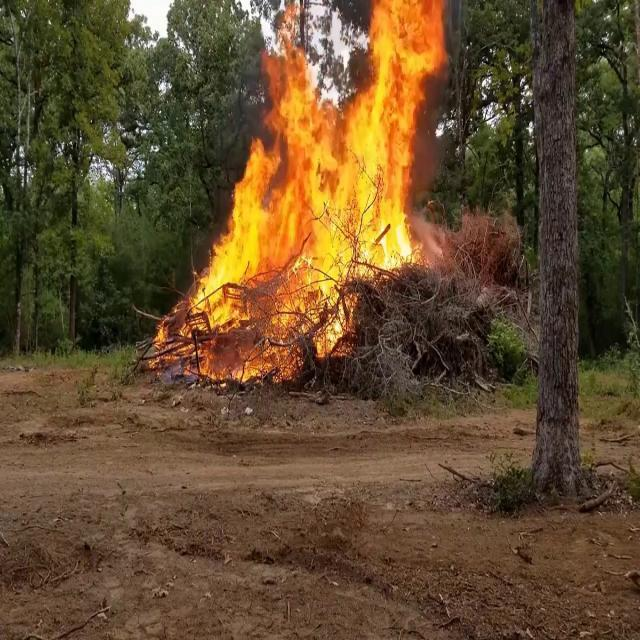Fire: (178, 1, 450, 364)
